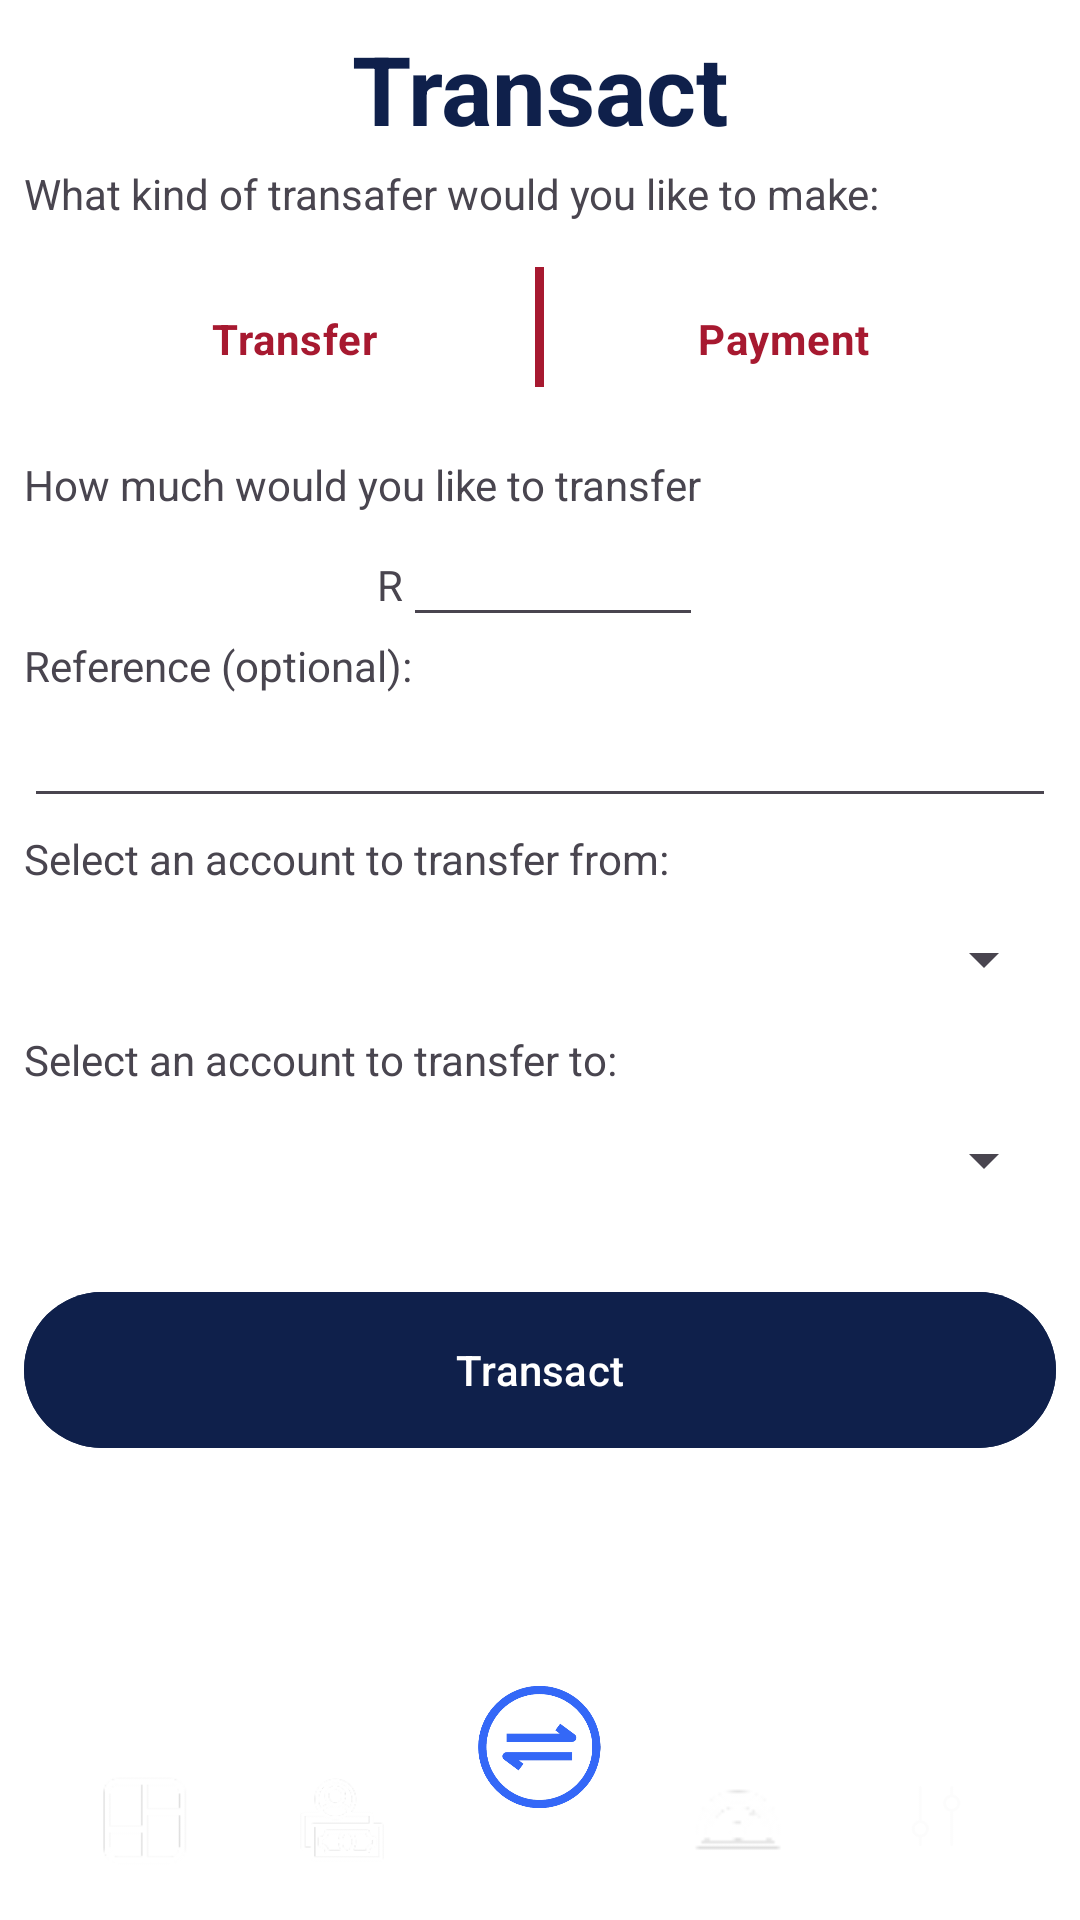

Icon click points for this 1080 x 1920 phone screenshot, format (x,y):
transact: (539,1747)
